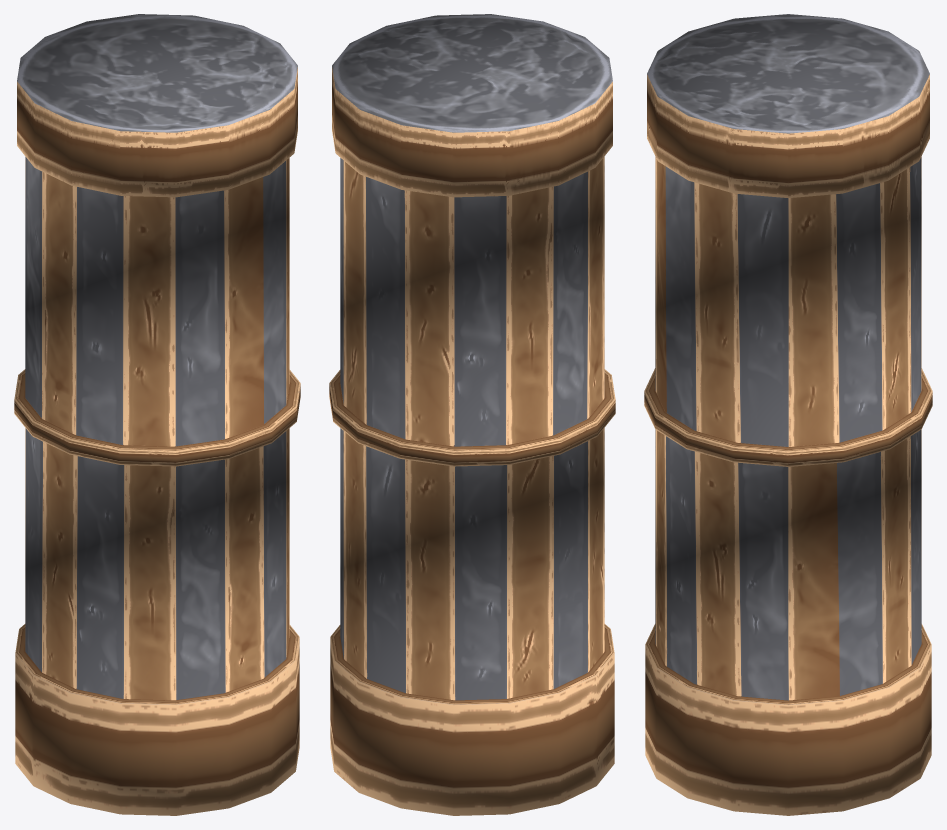
File: Columnas_v2.gltf
The picture shows the model from 3 angles, left to right: view 1: azimuth 30°, elevation 25°; view 2: azimuth 150°, elevation 25°; view 3: azimuth 270°, elevation 25°; orthographic projection.
Visible parts, largest first — view 1: Column_v2; view 2: Column_v2; view 3: Column_v2.
Part boxes in pixels (box(x1,y1,x2,y2)): Column_v2: box(14, 14, 300, 815); Column_v2: box(329, 14, 615, 815); Column_v2: box(644, 14, 932, 815).
Bounding box in the file's own units: 1.7 × 4.43 × 1.7.
1 material, 1 textured.
